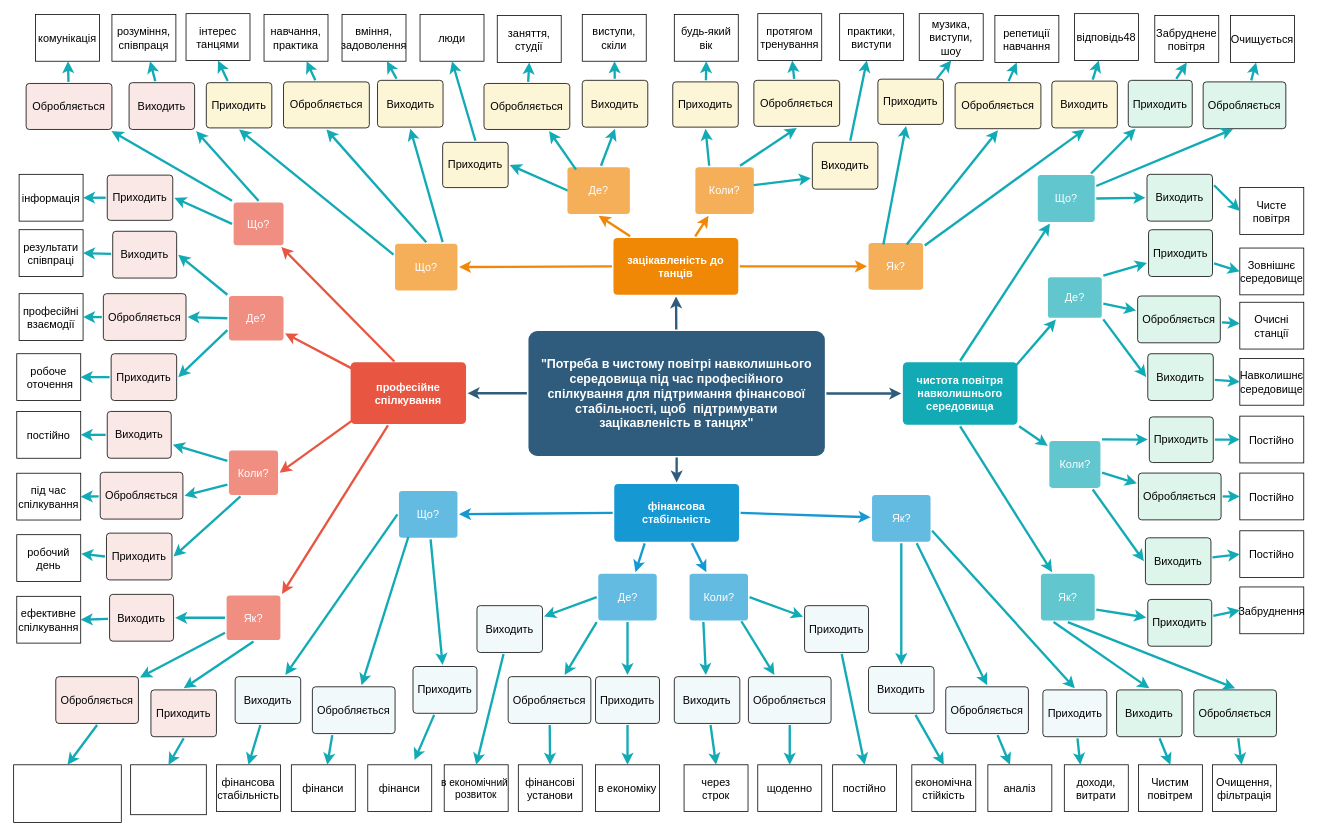
Image size: 1319x836. Some labels were removed from this diagram. Here are the shapes that lost their labels. From the top down, the box of each, then its label:
(13, 764, 121, 823): аналіз, взаєморозуміння
(130, 764, 206, 815): повідомлення, бесіди
